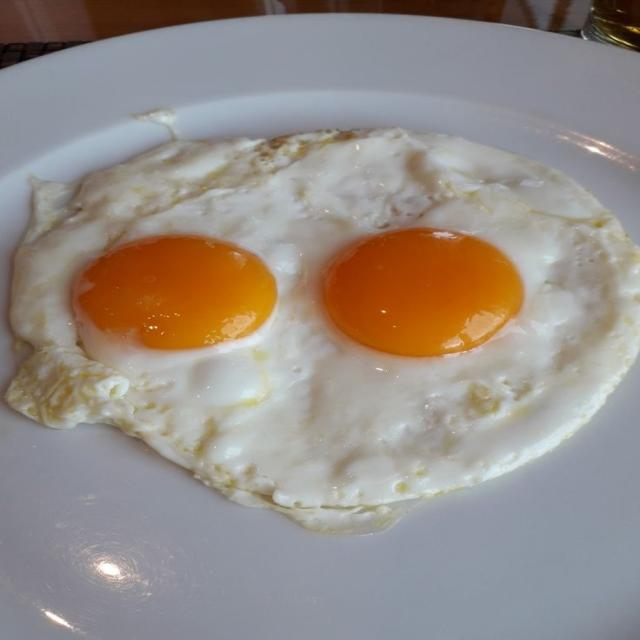fryed egg: (7, 130, 639, 533)
